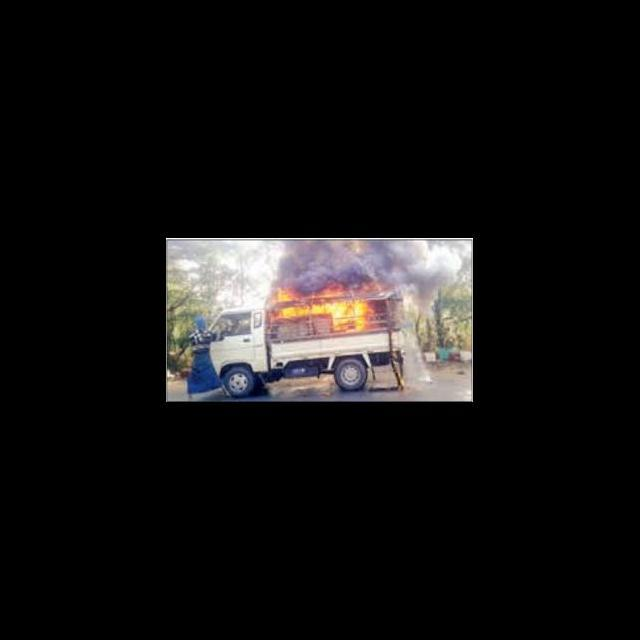Fire: (270, 288, 371, 334)
Smoke: (276, 243, 454, 287)
